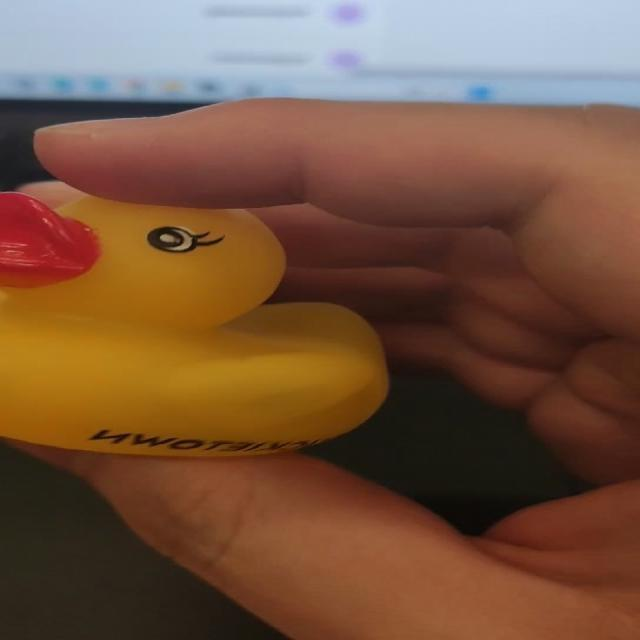rubber-duck: (0, 192, 386, 454)
